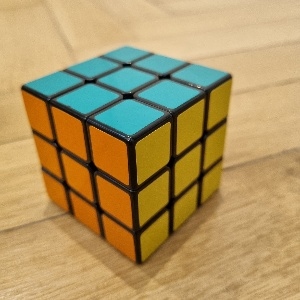cube: (21, 45, 233, 266)
